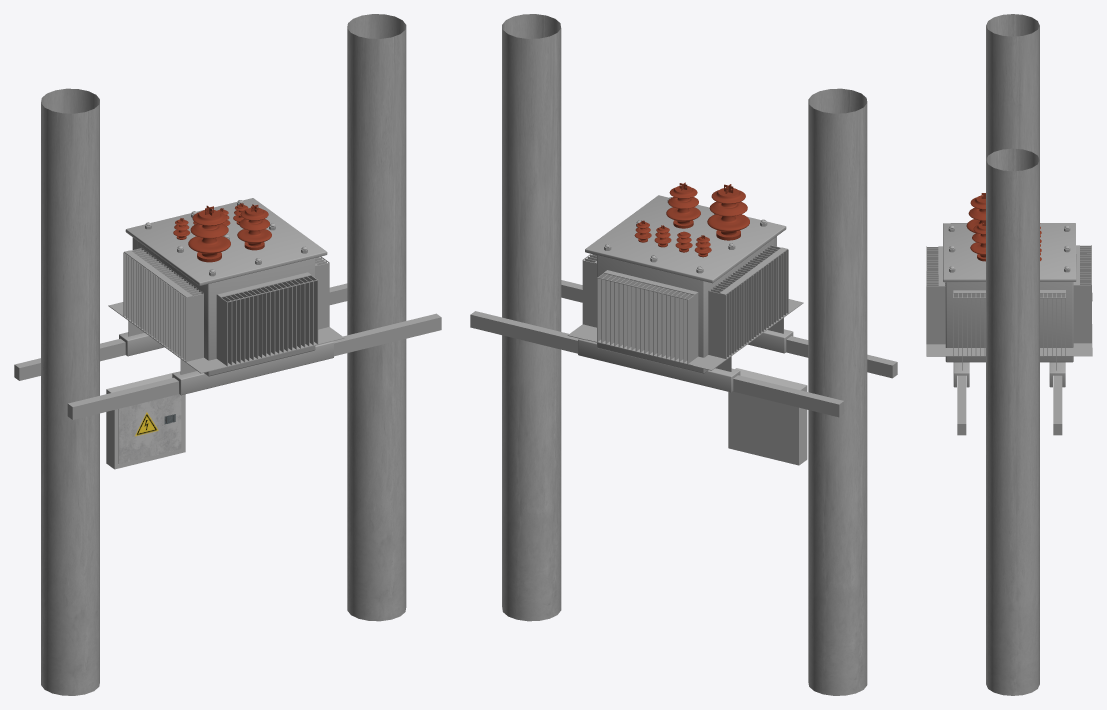
Rendered from communityTransformer.glb.
3 renders of one model, left to right at view 1: azimuth 30°, elevation 25°; view 2: azimuth 150°, elevation 25°; view 3: azimuth 270°, elevation 25°, orthographic. The views are drawn at different scales.
Visible parts, largest first — view 1: NurbsPath.002, NurbsPath.003, Объект_Ноль_1.001, Объект_Ноль_3.001, Cube.054, Cube.003_Power box_0.001, Cube_Power box_0.001, Объект_Ноль_4_5.001, Cube.055, Объект_Ноль_4_7.001; view 2: NurbsPath.003, NurbsPath.002, Объект_Ноль_1.001, Объект_Ноль_3.001, Cube_Power box_0.001, Cube.055, Объект_Ноль_4_5.001, Cube.054, Объект_Ноль_4_7.001; view 3: NurbsPath.002, Объект_Ноль_1.001, NurbsPath.003, Объект_Ноль_3.001, Cube.054, Cube.055, Объект_Ноль_4_5.001, Объект_Ноль_4_7.001.
Boxes of the visible parts, bbox=[...] form: NurbsPath.002: bbox=[347, 14, 406, 621]; NurbsPath.003: bbox=[41, 88, 99, 695]; Объект_Ноль_1.001: bbox=[108, 237, 344, 395]; Объект_Ноль_3.001: bbox=[125, 198, 327, 285]; Cube.054: bbox=[67, 313, 441, 419]; Cube.003_Power box_0.001: bbox=[118, 394, 181, 463]; Cube_Power box_0.001: bbox=[106, 372, 185, 469]; Объект_Ноль_4_5.001: bbox=[188, 209, 230, 262]; Cube.055: bbox=[14, 283, 347, 380]; Объект_Ноль_4_7.001: bbox=[237, 207, 271, 250]; NurbsPath.003: bbox=[808, 88, 867, 695]; NurbsPath.002: bbox=[502, 14, 561, 621]; Объект_Ноль_1.001: bbox=[567, 236, 803, 392]; Объект_Ноль_3.001: bbox=[585, 195, 786, 283]; Cube_Power box_0.001: bbox=[728, 368, 807, 465]; Cube.055: bbox=[470, 311, 844, 417]; Объект_Ноль_4_5.001: bbox=[707, 188, 749, 240]; Cube.054: bbox=[561, 280, 897, 378]; Объект_Ноль_4_7.001: bbox=[666, 186, 700, 228]; NurbsPath.002: bbox=[986, 148, 1039, 695]; Объект_Ноль_1.001: bbox=[926, 245, 1092, 387]; NurbsPath.003: bbox=[986, 14, 1039, 159]; Объект_Ноль_3.001: bbox=[943, 223, 1076, 282]; Cube.054: bbox=[957, 375, 966, 435]; Cube.055: bbox=[1053, 375, 1062, 435]; Объект_Ноль_4_5.001: bbox=[966, 195, 985, 233]; Объект_Ноль_4_7.001: bbox=[970, 223, 985, 261].
Bounding box in the file's own units: 6.9 × 10.41 × 3.
4 materials, 2 textured.
